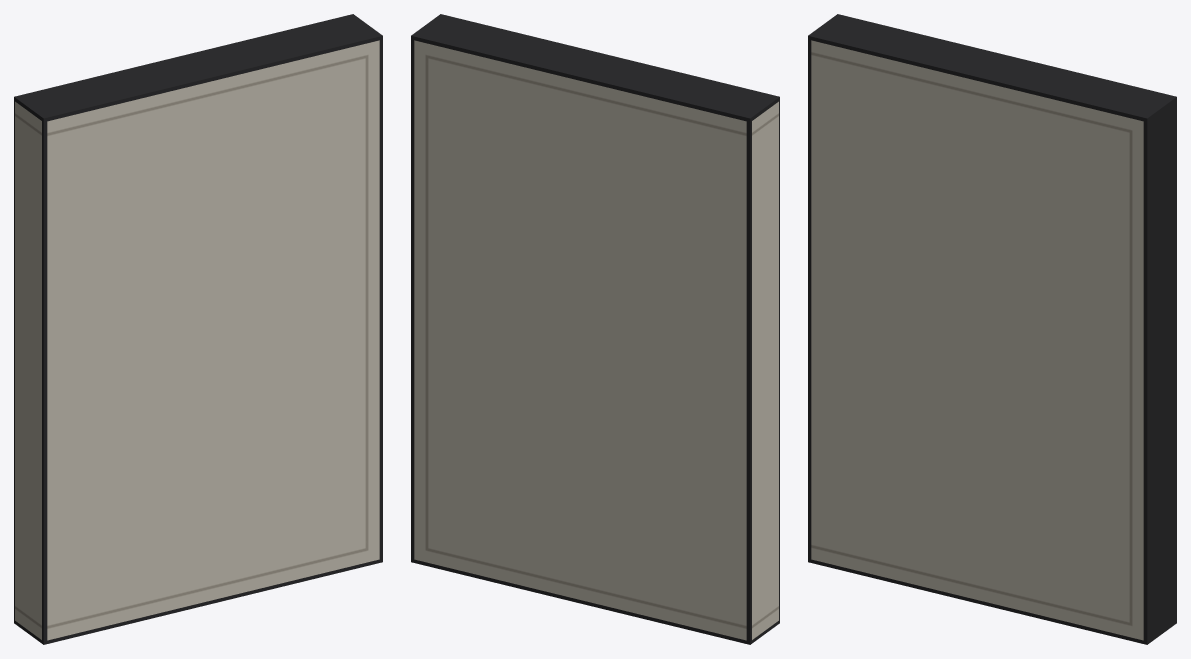
The model's file is saturn_case.glb.
3 renders of one model, left to right at view 1: azimuth 30°, elevation 25°; view 2: azimuth 150°, elevation 25°; view 3: azimuth 330°, elevation 25°, orthographic.
Parts seen in each view (by area): view 1: saturn_case; view 2: saturn_case; view 3: saturn_case.
Boxes of the visible parts, left/top/right/bottom form: saturn_case: left=14, top=14, right=382, bottom=644; saturn_case: left=411, top=14, right=779, bottom=644; saturn_case: left=808, top=14, right=1176, bottom=644.
Size of the model in its own units: 0.1451 by 0.215 by 0.0222.
Materials: 2 (1 with a texture image).
